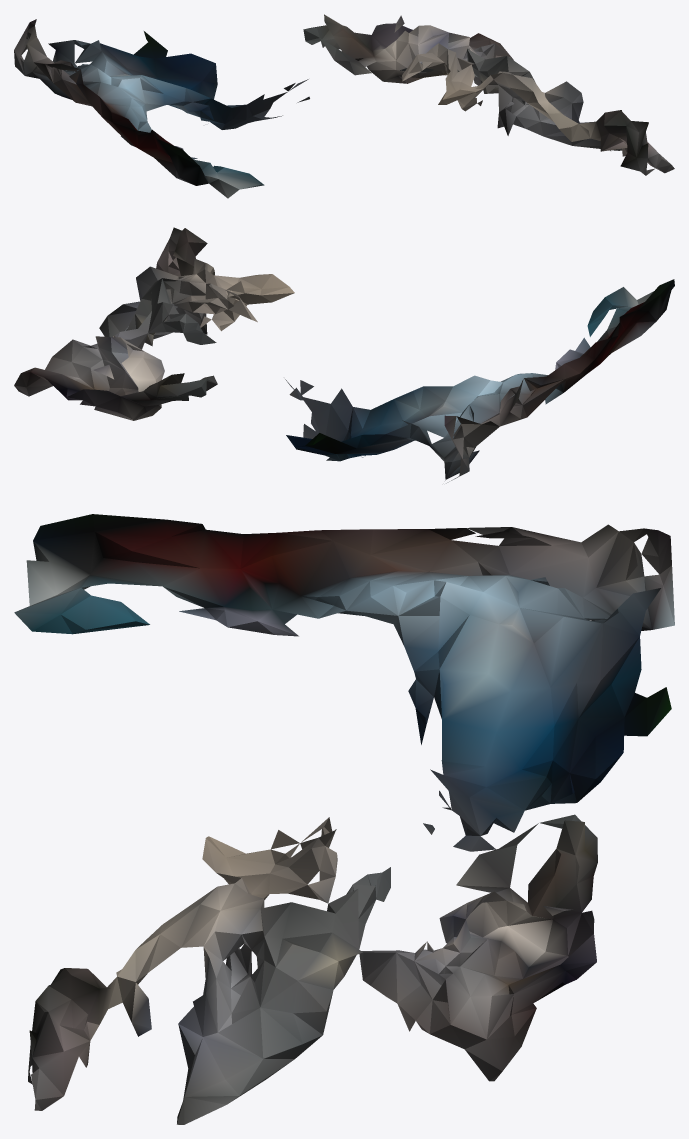
The model's file is refrigerator_body__refrigerator_freezer_door.scan.glb.
3 views of the same model, one above another, from view 1: azimuth 30°, elevation 25°; view 2: azimuth 150°, elevation 25°; view 3: azimuth 270°, elevation 25° (orthographic). The views are drawn at different scales.
Parts seen in each view (by area): view 1: geometry_0; view 2: geometry_0; view 3: geometry_0.
Part boxes in pixels (bbox=[...]): geometry_0: bbox=[14, 14, 674, 198]; geometry_0: bbox=[14, 227, 674, 483]; geometry_0: bbox=[14, 514, 674, 1124].
Bounding box in the file's own units: 0.8084 × 0.2162 × 0.5717.
